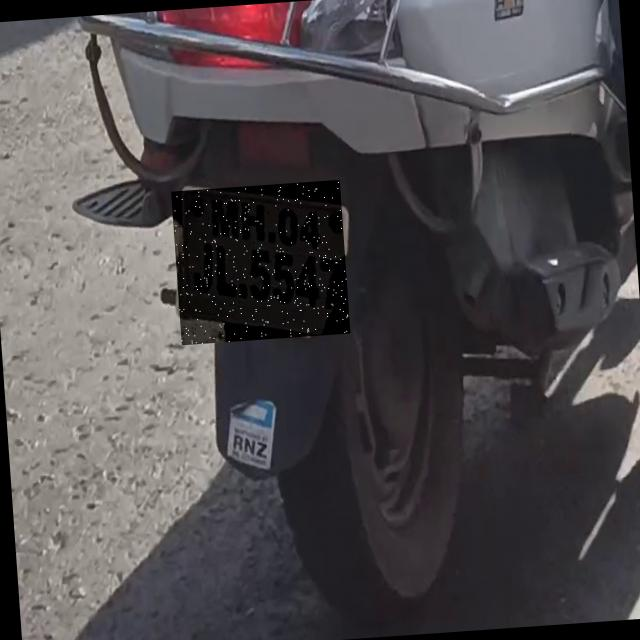Plate: (172, 181, 351, 346)
